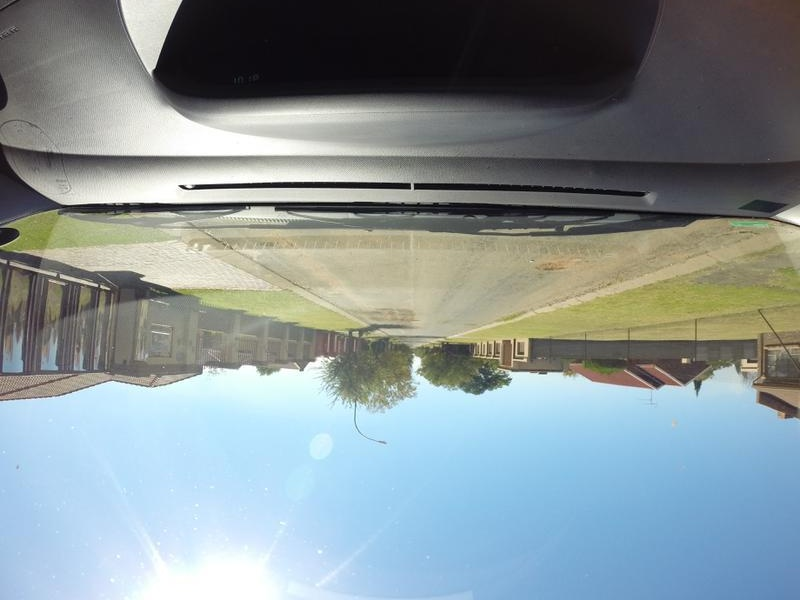pothole: (531, 250, 588, 278)
